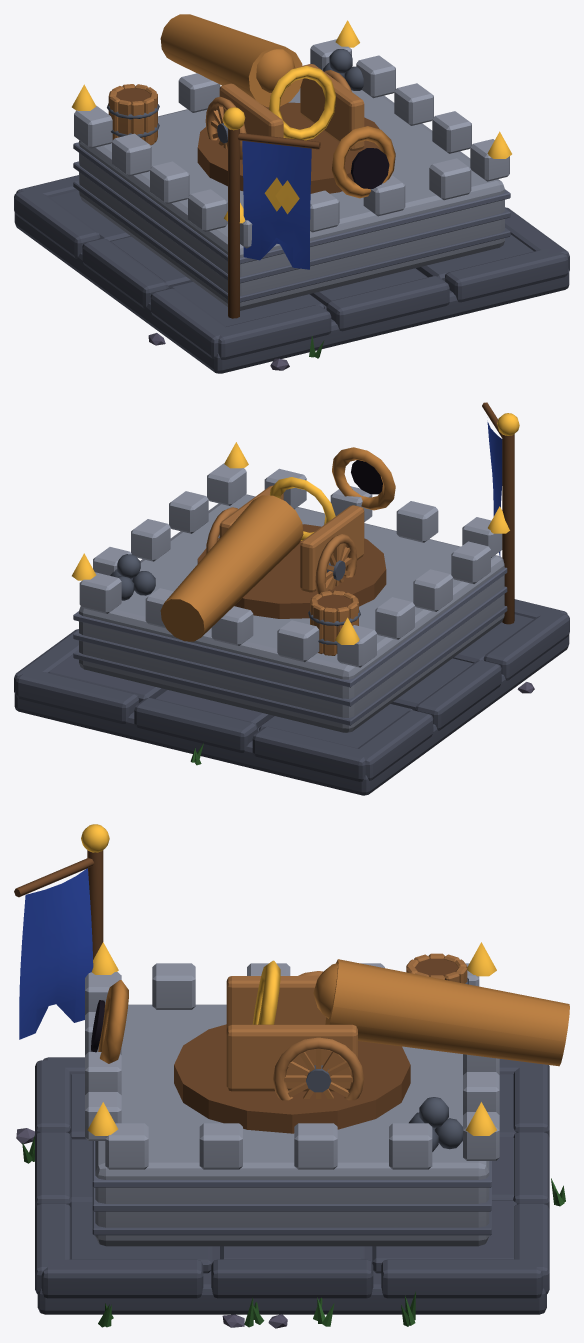
Rendered from cannon.glb.
The picture shows the model from 3 angles, top to bottom: view 1: azimuth 30°, elevation 25°; view 2: azimuth 150°, elevation 25°; view 3: azimuth 270°, elevation 25°; orthographic projection. The views are drawn at different scales.
Parts seen in each view (by area): view 1: t0_stone_dark, t0_stone, turret_t0_bronze, t3_cloth_blue, turret_t0_wood, turret_t0_wood_dark, t3_wood_dark, turret_t0_gold, t1_wood, t2_gold, turret_t0_dark, t3_gold (+1 smaller); view 2: t0_stone, t0_stone_dark, turret_t0_bronze, turret_t0_wood_dark, turret_t0_wood, t3_wood_dark, t1_wood, t2_gold, t0_iron, turret_t0_gold, t3_cloth_blue, turret_t0_dark; view 3: t0_stone_dark, t0_stone, turret_t0_bronze, turret_t0_wood, turret_t0_wood_dark, t3_cloth_blue, t2_gold, t3_wood_dark, t0_moss, t0_iron, turret_t0_gold, t1_wood (+2 smaller).
Boxes of the visible parts, bbox=[...] form: t0_stone_dark: bbox=[14, 142, 569, 373]; t0_stone: bbox=[74, 39, 509, 310]; turret_t0_bronze: bbox=[160, 14, 395, 198]; t3_cloth_blue: bbox=[242, 141, 311, 269]; turret_t0_wood: bbox=[205, 64, 364, 159]; turret_t0_wood_dark: bbox=[197, 102, 380, 193]; t3_wood_dark: bbox=[228, 128, 320, 318]; turret_t0_gold: bbox=[269, 65, 335, 140]; t1_wood: bbox=[108, 84, 157, 145]; t2_gold: bbox=[72, 20, 511, 223]; turret_t0_dark: bbox=[351, 148, 389, 188]; t3_gold: bbox=[222, 107, 299, 214]; t0_stone: bbox=[79, 463, 504, 732]; t0_stone_dark: bbox=[14, 567, 569, 795]; turret_t0_bronze: bbox=[160, 447, 395, 641]; turret_t0_wood_dark: bbox=[197, 524, 386, 618]; turret_t0_wood: bbox=[205, 485, 364, 594]; t3_wood_dark: bbox=[482, 402, 514, 624]; t1_wood: bbox=[310, 590, 358, 655]; t2_gold: bbox=[72, 442, 509, 644]; t0_iron: bbox=[110, 554, 155, 600]; turret_t0_gold: bbox=[269, 477, 335, 540]; t3_cloth_blue: bbox=[487, 422, 502, 556]; turret_t0_dark: bbox=[351, 460, 382, 494]; t0_stone_dark: bbox=[35, 1057, 549, 1314]; t0_stone: bbox=[85, 963, 499, 1246]; turret_t0_bronze: bbox=[98, 959, 569, 1066]; turret_t0_wood: bbox=[226, 971, 364, 1100]; turret_t0_wood_dark: bbox=[174, 1024, 410, 1133]; t3_cloth_blue: bbox=[19, 868, 93, 1039]; t2_gold: bbox=[87, 942, 496, 1135]; t3_wood_dark: bbox=[14, 850, 103, 959]; t0_moss: bbox=[22, 1135, 565, 1327]; t0_iron: bbox=[409, 1097, 462, 1151]; turret_t0_gold: bbox=[252, 960, 280, 1024]; t1_wood: bbox=[406, 953, 467, 983].
Size of the model in its own units: 2.1 by 1.28 by 2.12.
